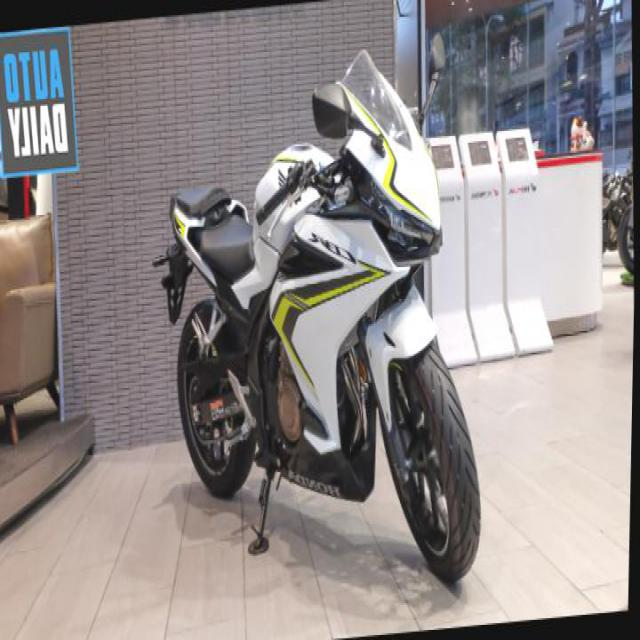CBR500R: (142, 37, 493, 616)
